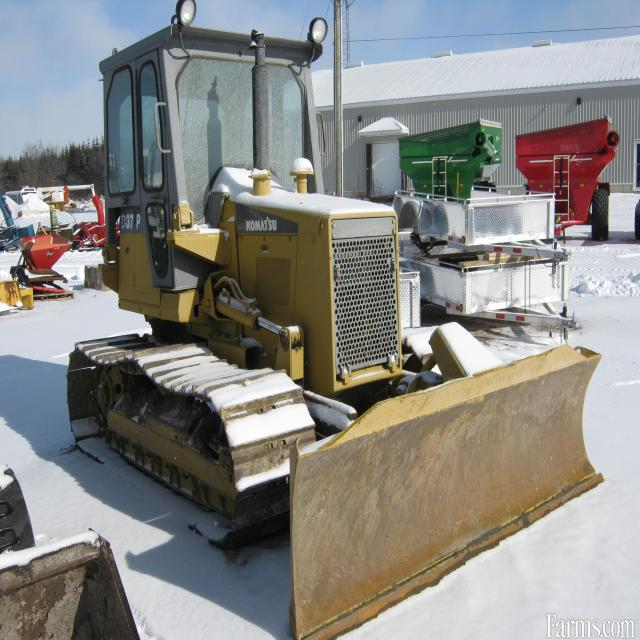Bulldozer: (46, 11, 621, 619)
